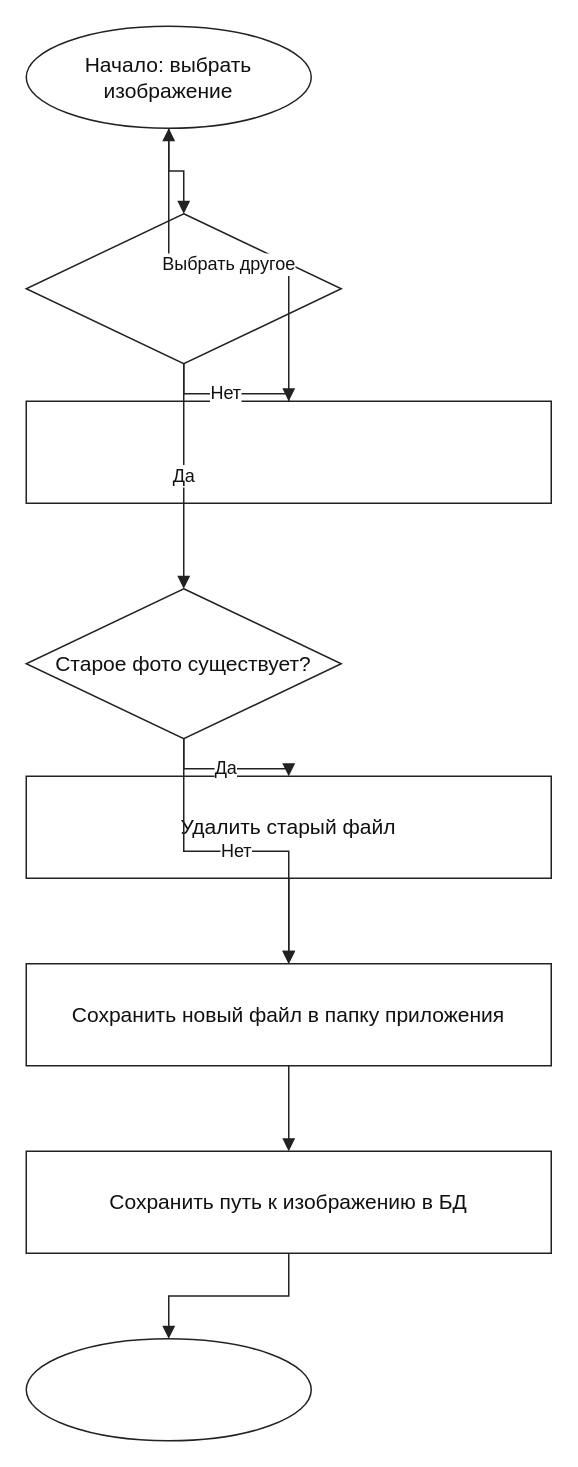
Some shapes in this 578 by 1467 pixel diagram are drawn without their labels. Each missing label, with the box of its shape:
Конец: (25, 1337, 311, 1441)
Показать сообщение: выберите изображение нужного размера: (25, 400, 551, 503)
Размер изображения не больше 300×200?: (25, 212, 341, 364)
